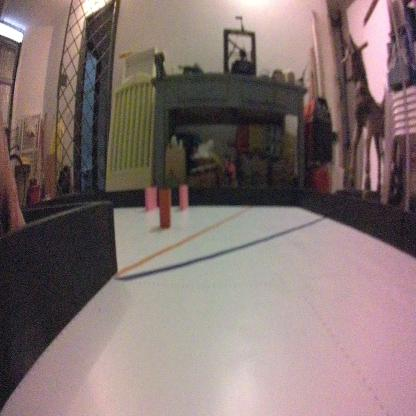magenta: (142, 182, 156, 214), (179, 183, 187, 211)
red: (156, 185, 170, 231)
